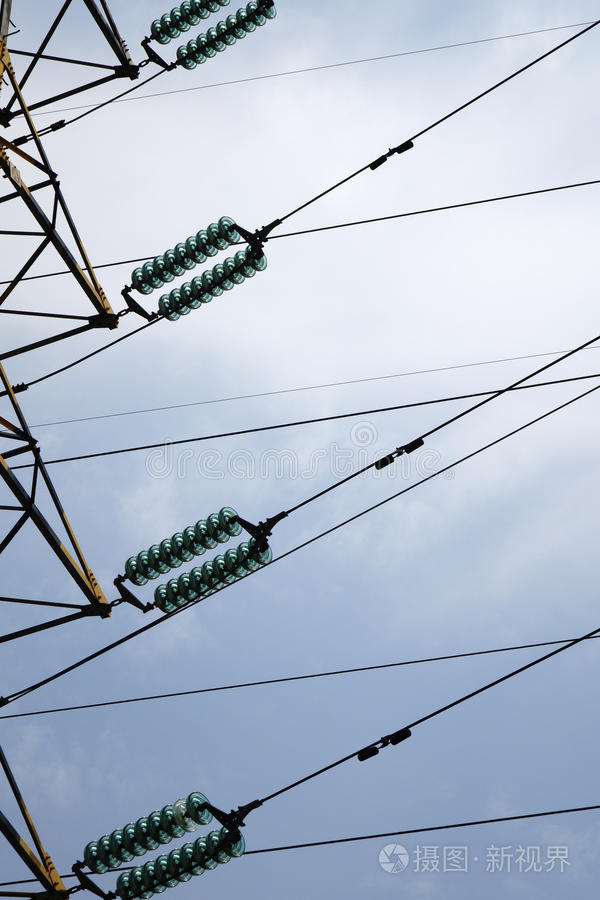insulator: (85, 789, 213, 867), (150, 540, 271, 614), (129, 508, 246, 584), (117, 833, 240, 900), (133, 219, 235, 297), (158, 245, 265, 319), (176, 3, 274, 72), (150, 1, 216, 44)
